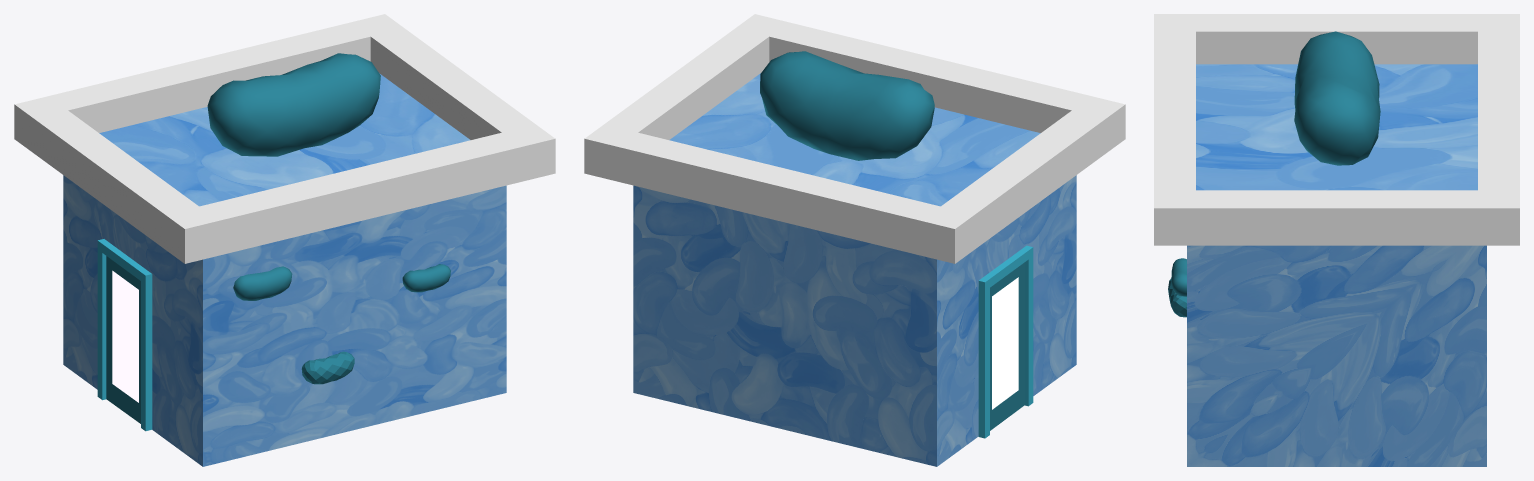
Rendered from Jelly bean Building.fbx.
The picture shows the model from 3 angles, left to right: view 1: azimuth 30°, elevation 25°; view 2: azimuth 150°, elevation 25°; view 3: azimuth 270°, elevation 25°; orthographic projection. The views are drawn at different scales.
Parts seen in each view (by area): view 1: Jelly bean building; view 2: Jelly bean building; view 3: Jelly bean building.
Part boxes in pixels (<box>): Jelly bean building: <box>14,14,555,466</box>; Jelly bean building: <box>584,14,1125,466</box>; Jelly bean building: <box>1154,14,1519,466</box>.
Bounding box in the file's own units: 1027 × 816 × 818.
Materials: 5 (1 with a texture image).
